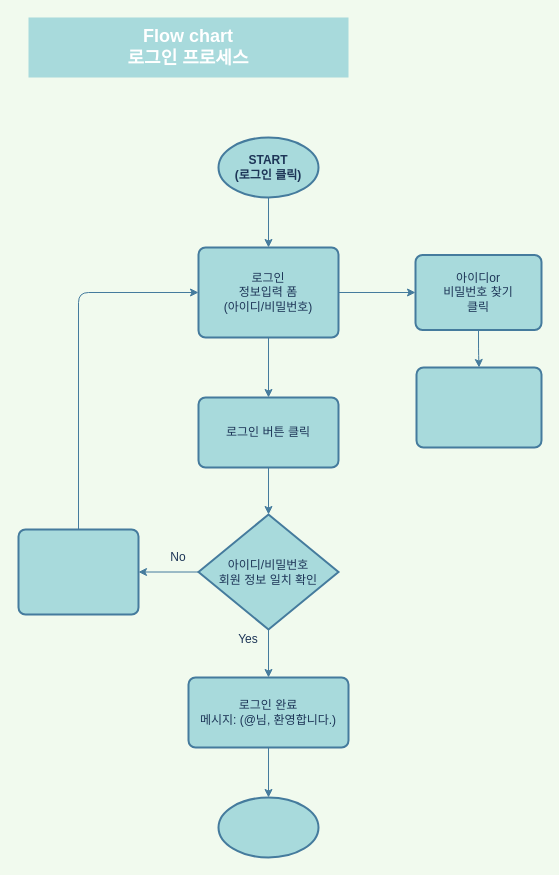
Image size: 559x875. Some labels were removed from this diagram. The box of each missing label's shape, as (x1, y1, x2, y2) in pixels:
[시스템 얼럿] 아이디와 비밀번호를 다시 확인해 주세요.: (17, 528, 139, 615)
FINISH: (217, 796, 319, 858)
아이디or 비밀번호 찾기 프로세스: (415, 366, 542, 448)
